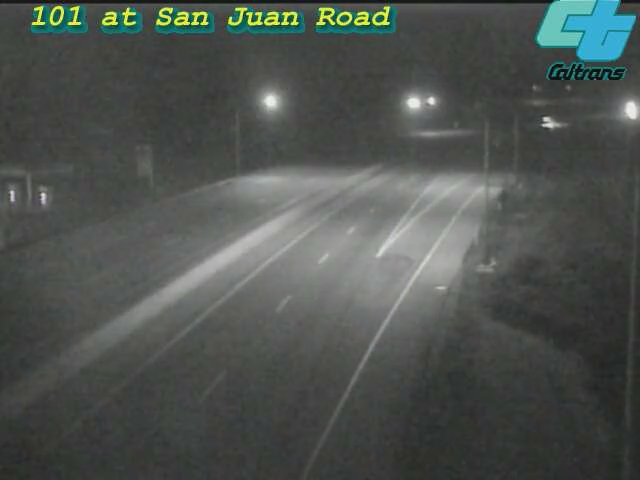vehicle: (524, 97, 574, 147), (608, 86, 640, 136)
